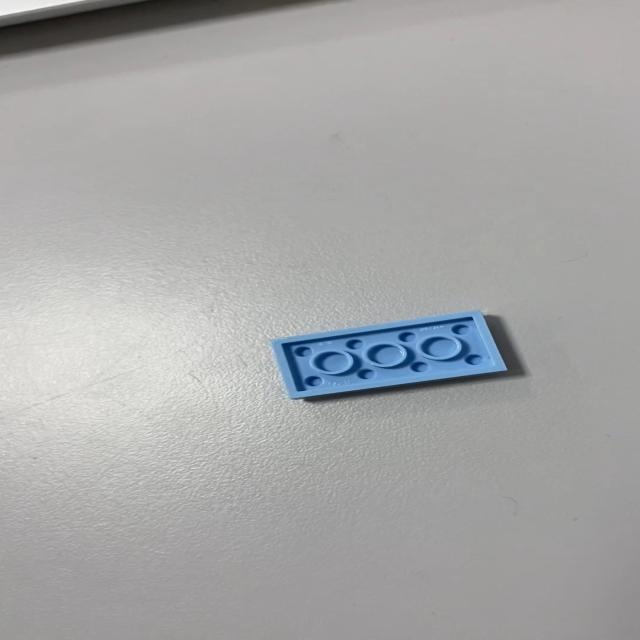C4x2x0: (269, 309, 508, 400)
